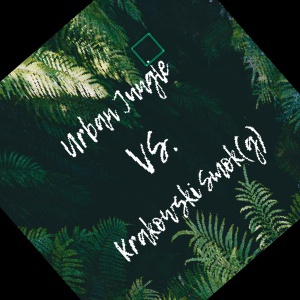square: (130, 31, 166, 68)
